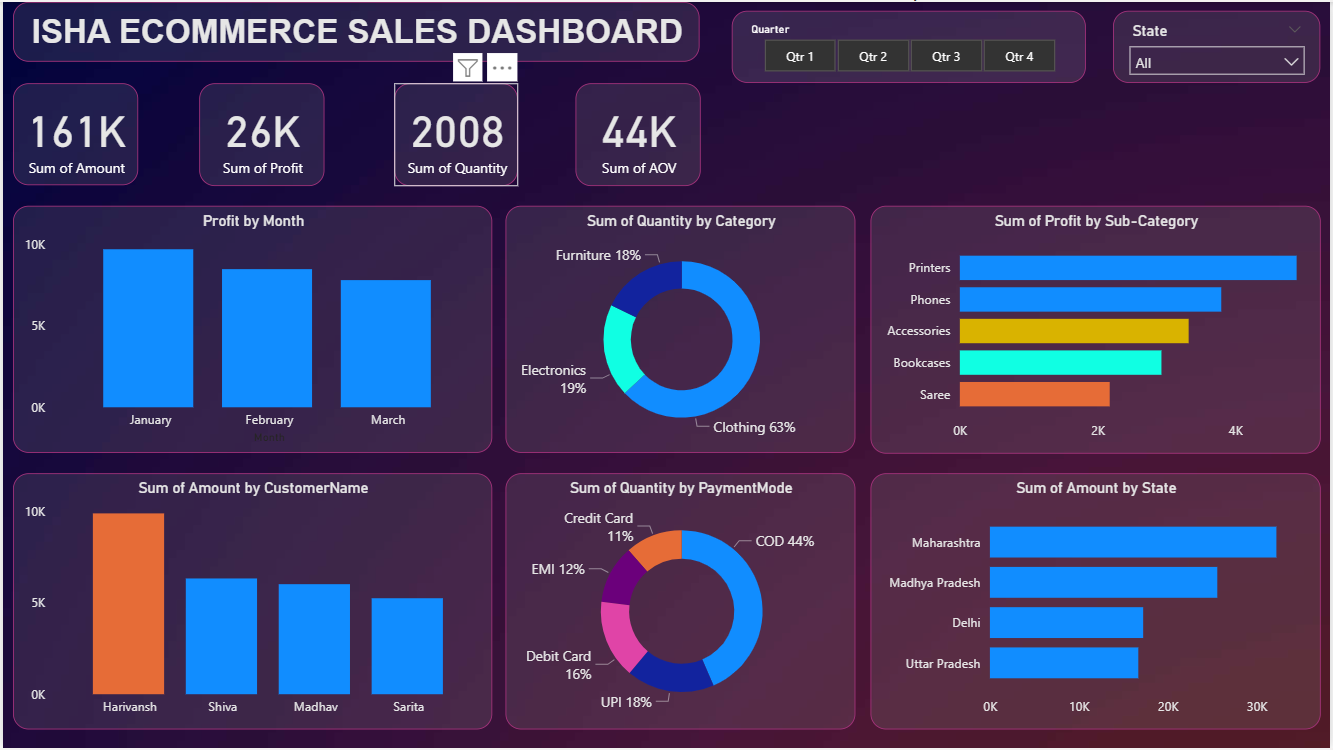

Layout of this report page (visuals, bound fields, positions):
{"tool":"powerbi","page":{"name":"Page 1","canvas":[1280,720],"ordinal":0},"visuals":[{"type":"textbox","box":[9.6,0,662.8,57.6],"z":0},{"type":"columnChart","title":"Profit by Month","fields":{"Category":["Orders.Order Date.Variation.Date Hierarchy.Month"],"Y":["Details.Profit"]},"box":[9.4,196.3,462.6,238],"z":1000},{"type":"barChart","fields":{"Category":["Details.Sub-Category"],"Y":["Details.Profit"]},"box":[836.5,196.3,434.4,239.4],"z":2000},{"type":"donutChart","fields":{"Category":["Details.Category"],"Y":["Details.Quantity"]},"box":[484.4,196.2,337.6,238.8],"z":3000},{"type":"donutChart","fields":{"Y":["Details.Quantity"],"Category":["Details.PaymentMode"]},"box":[484.4,454.2,337.6,247],"z":4000},{"type":"card","fields":{"Values":["Details.Amount"]},"box":[9.6,78.2,120.8,98.8],"z":5000},{"type":"card","fields":{"Values":["Details.Profit"]},"box":[189.3,78.4,120.6,98.9],"z":6000},{"type":"card","fields":{"Values":["Details.Quantity"]},"box":[377.5,78.4,119.4,98.9],"z":7000},{"type":"card","fields":{"Values":["Details.AOV"]},"box":[552.4,78.4,120.6,98.9],"z":8000},{"type":"barChart","fields":{"Category":["Orders.State"],"Y":["Details.Amount"]},"box":[836.5,454.6,434.4,247.4],"z":9000},{"type":"columnChart","fields":{"Category":["Orders.CustomerName"],"Y":["Details.Amount"]},"box":[9.6,454.2,462.4,247],"z":10000},{"type":"slicer","fields":{"Values":["Orders.Order Date.Variation.Date Hierarchy.Quarter"]},"box":[703.3,8.1,341.6,69.9],"z":11000},{"type":"slicer","fields":{"Values":["Orders.State"]},"box":[1070.5,8.1,200.4,69.9],"z":12000}]}

Visuals, with their boxes in screenshot pixels (x1, y1, x2, y2), scaled from the page's 1280x720 canvas onto the 1333x750 screenshot:
textbox: [10, 0, 700, 60]
"Profit by Month" columnChart: [10, 204, 492, 452]
barChart - Details.Sub-Category x Details.Profit: [871, 204, 1324, 454]
donutChart - Details.Category x Details.Quantity: [504, 204, 856, 453]
donutChart - Details.Quantity x Details.PaymentMode: [504, 473, 856, 730]
card - Details.Amount: [10, 81, 136, 184]
card - Details.Profit: [197, 82, 323, 185]
card - Details.Quantity: [393, 82, 517, 185]
card - Details.AOV: [575, 82, 701, 185]
barChart - Orders.State x Details.Amount: [871, 474, 1324, 731]
columnChart - Orders.CustomerName x Details.Amount: [10, 473, 492, 730]
slicer - Orders.Order Date.Variation.Date Hierarchy.Quarter: [732, 8, 1088, 81]
slicer - Orders.State: [1115, 8, 1324, 81]
